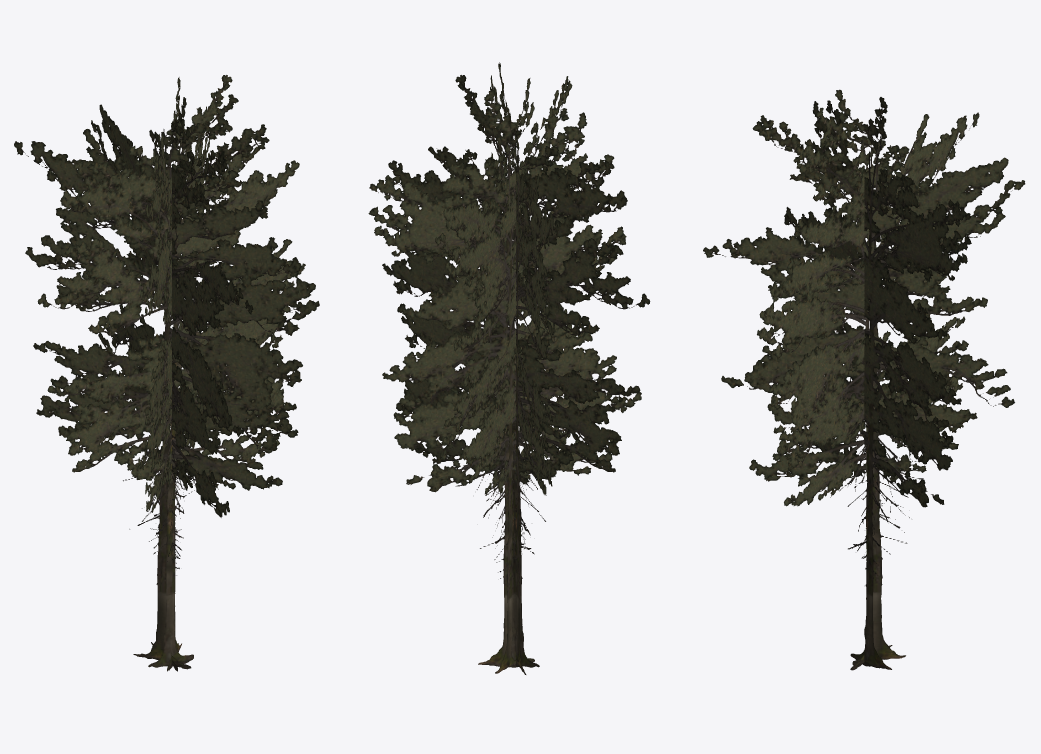
Rendered from tree_pine_b.glb.
The picture shows the model from 3 angles, left to right: view 1: azimuth 30°, elevation 25°; view 2: azimuth 150°, elevation 25°; view 3: azimuth 270°, elevation 25°; orthographic projection.
Visible parts, largest first — view 1: tree_pine_b; view 2: tree_pine_b; view 3: tree_pine_b.
Part boxes in pixels (x1,y1,x2,y2): tree_pine_b: [14, 75, 319, 671]; tree_pine_b: [368, 62, 650, 674]; tree_pine_b: [703, 89, 1025, 670].
Bounding box in the file's own units: 7.59 × 15.18 × 7.59.
Materials: 1 (1 with a texture image).
